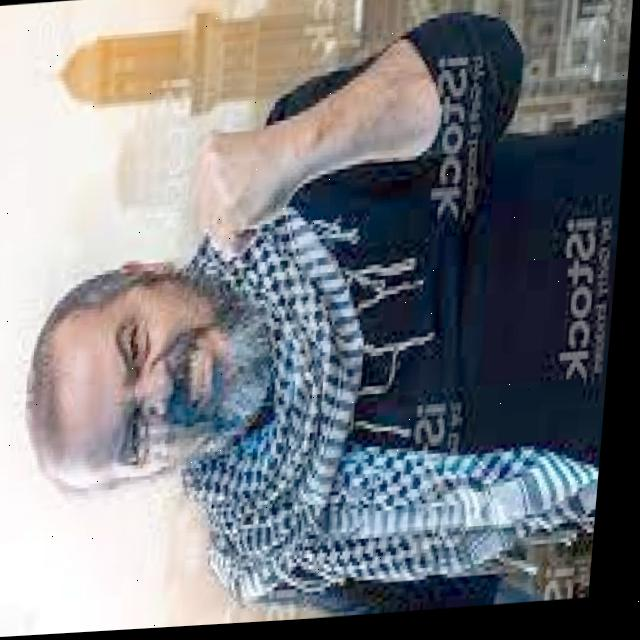angry: (20, 263, 303, 515)
